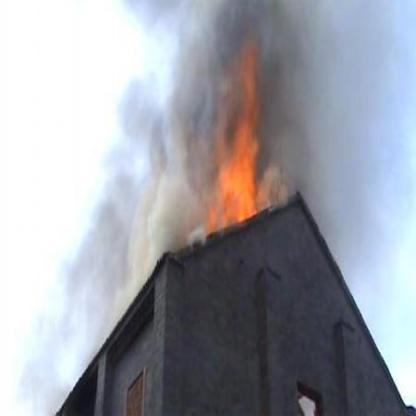fire: (208, 162, 255, 227), (232, 58, 257, 160)
